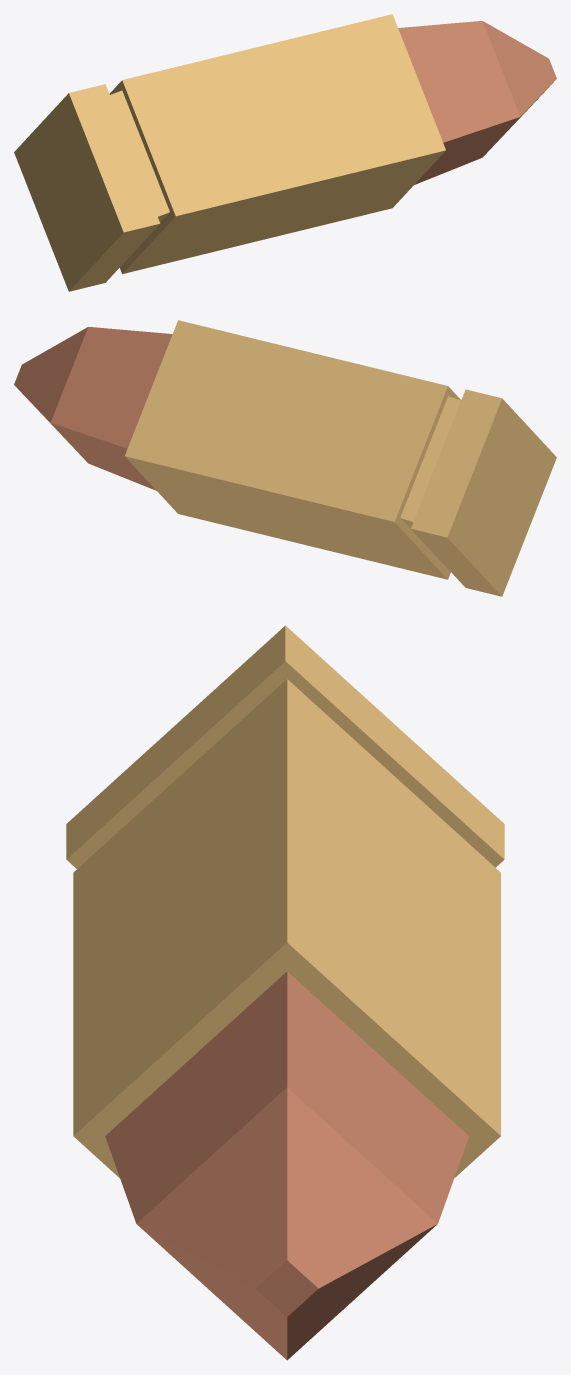
The model's file is Bullet-Live.gltf.
3 views of the same model, one above another, from view 1: azimuth 30°, elevation 25°; view 2: azimuth 150°, elevation 25°; view 3: azimuth 270°, elevation 25° (orthographic). The views are drawn at different scales.
Parts seen in each view (by area): view 1: bullet-9mm; view 2: bullet-9mm; view 3: bullet-9mm.
Part boxes in pixels (box(x1,y1,x2,y2)): bullet-9mm: box(14, 14, 556, 291); bullet-9mm: box(14, 320, 556, 596); bullet-9mm: box(66, 625, 504, 1360).
Bounding box in the file's own units: 0.2386 × 0.0943 × 0.0943.
